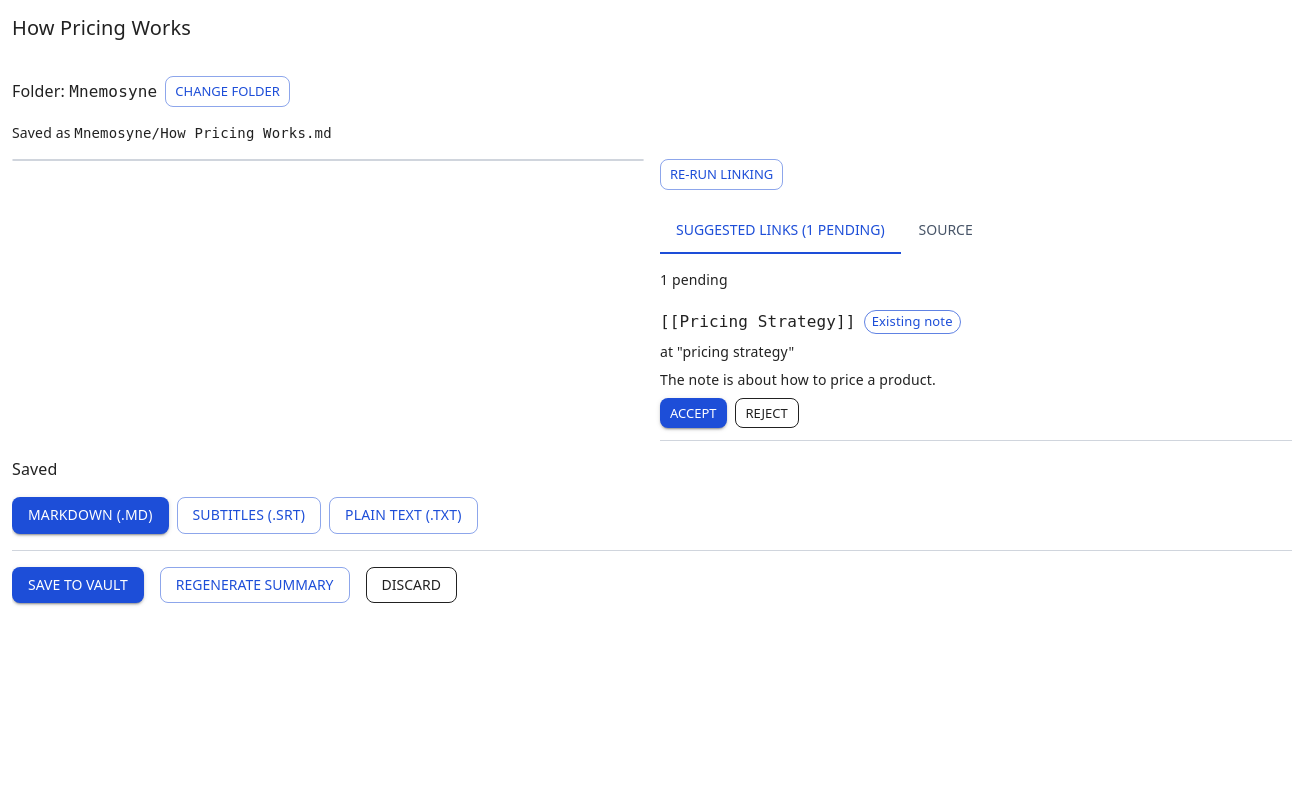
ReviewScreen tabs › switches between the tabs
expect the tab "Suggested links (1 pending)" is shown: met, box x1=660 y1=206 x2=901 y2=254
Click the tab "Source" at (946, 230), box x1=901 y1=206 x2=991 y2=254
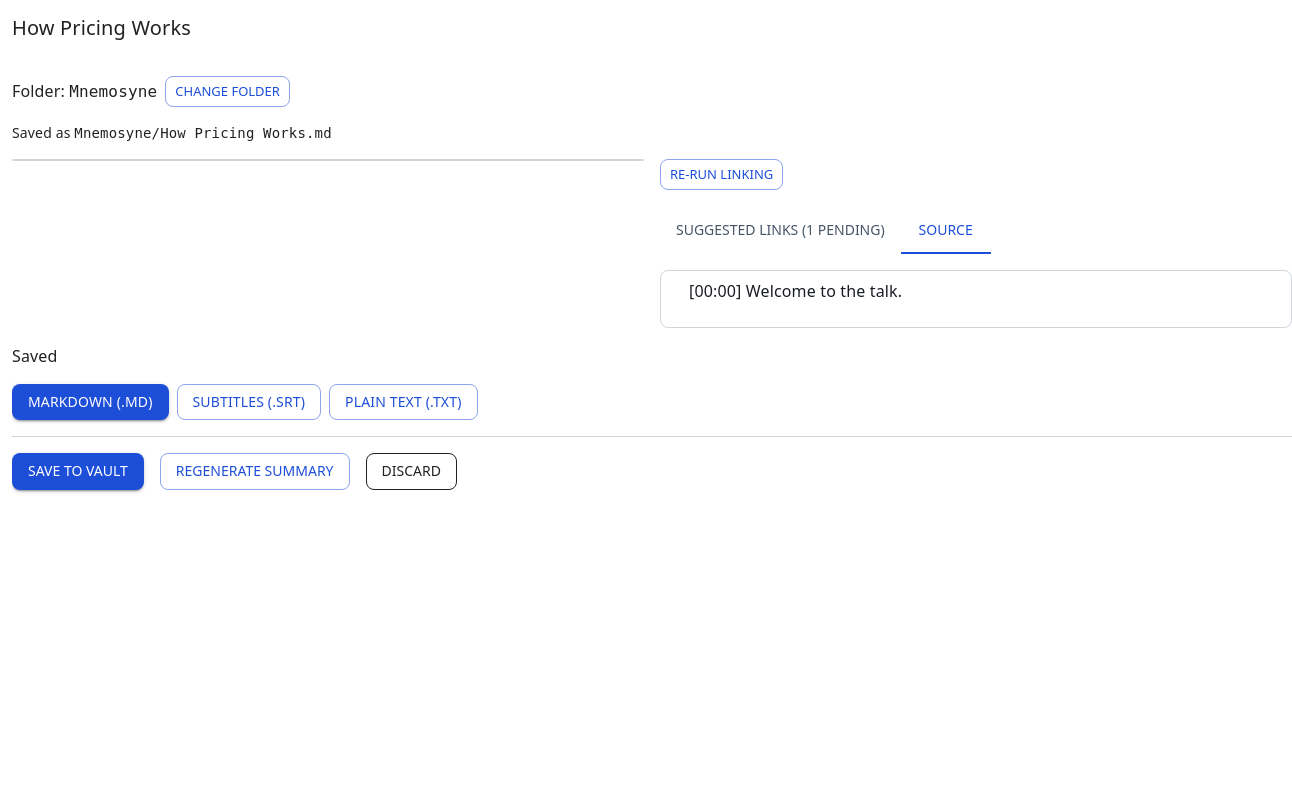
expect the element named "Transcript" is shown: met, box x1=660 y1=270 x2=1291 y2=328
